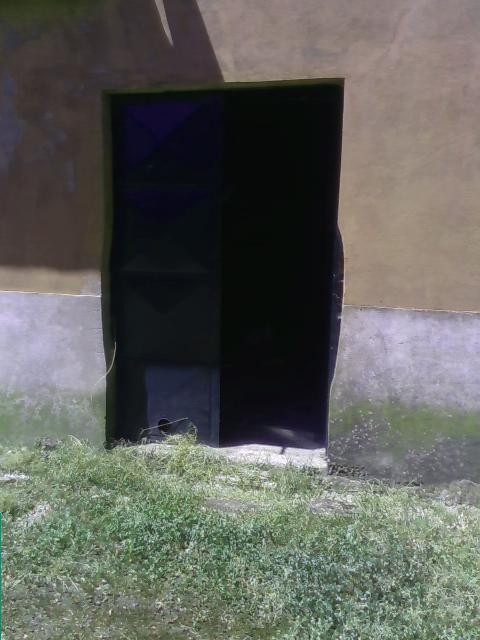open_door: (101, 74, 343, 469)
